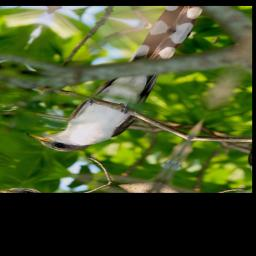Cuckoo: (17, 17, 195, 163)
